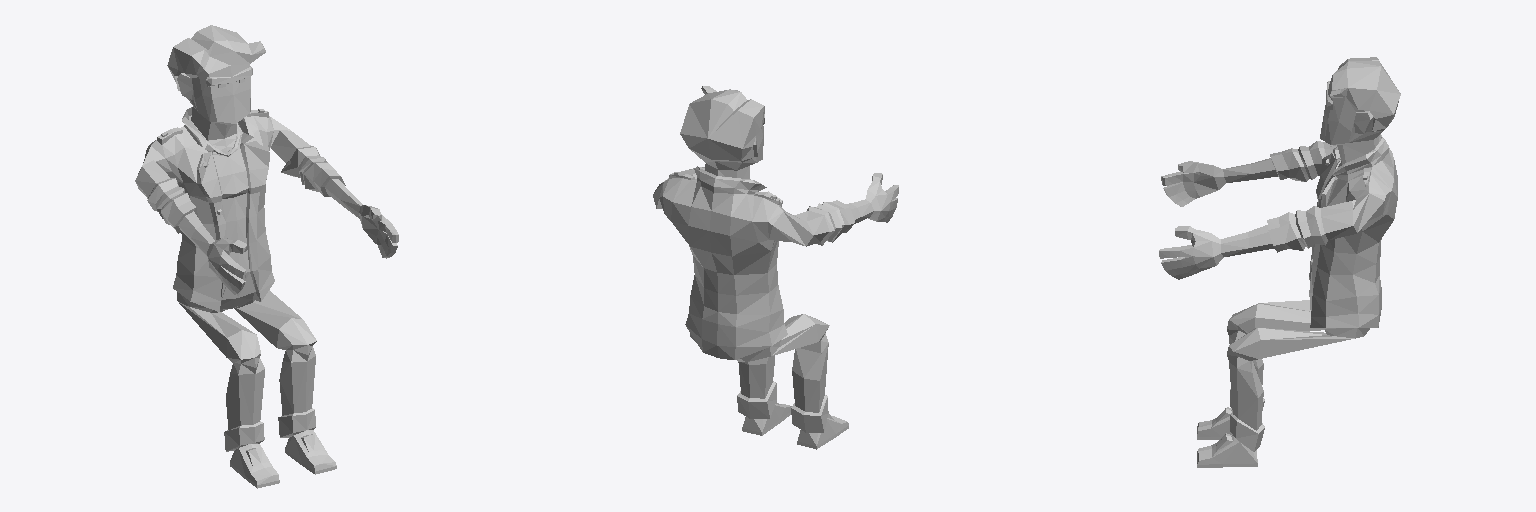
Rendered from man_jacket_driving.obj.
3 renders of one model, left to right at view 1: azimuth 30°, elevation 25°; view 2: azimuth 150°, elevation 25°; view 3: azimuth 270°, elevation 25°, orthographic.
Visible parts, largest first — view 1: Character_Male_Jacket_Mesh.040; view 2: Character_Male_Jacket_Mesh.040; view 3: Character_Male_Jacket_Mesh.040.
Part boxes in pixels (x1,y1,x2,y2): Character_Male_Jacket_Mesh.040: (135,25,398,488); Character_Male_Jacket_Mesh.040: (653,86,898,449); Character_Male_Jacket_Mesh.040: (1159,57,1400,467).
Bounding box in the file's own units: 0.7423 × 1.56 × 0.8857.